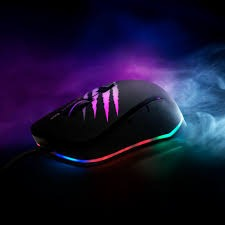mouse: (28, 77, 189, 173)
